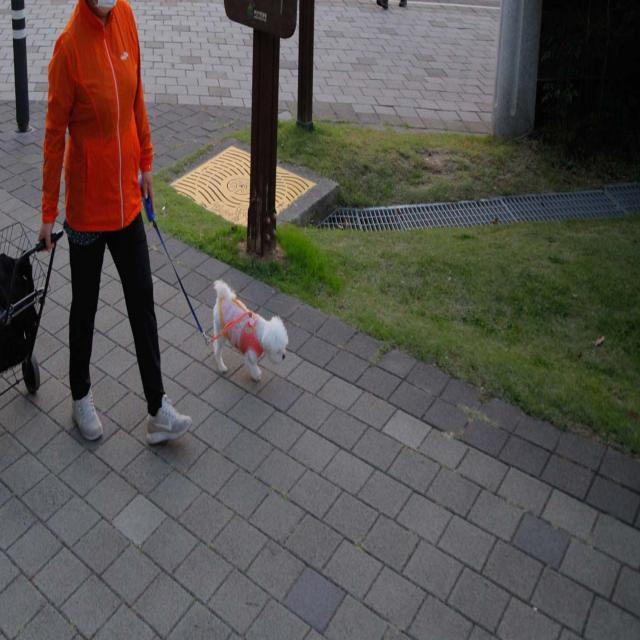Leashed_Dog: (124, 173, 288, 382)
